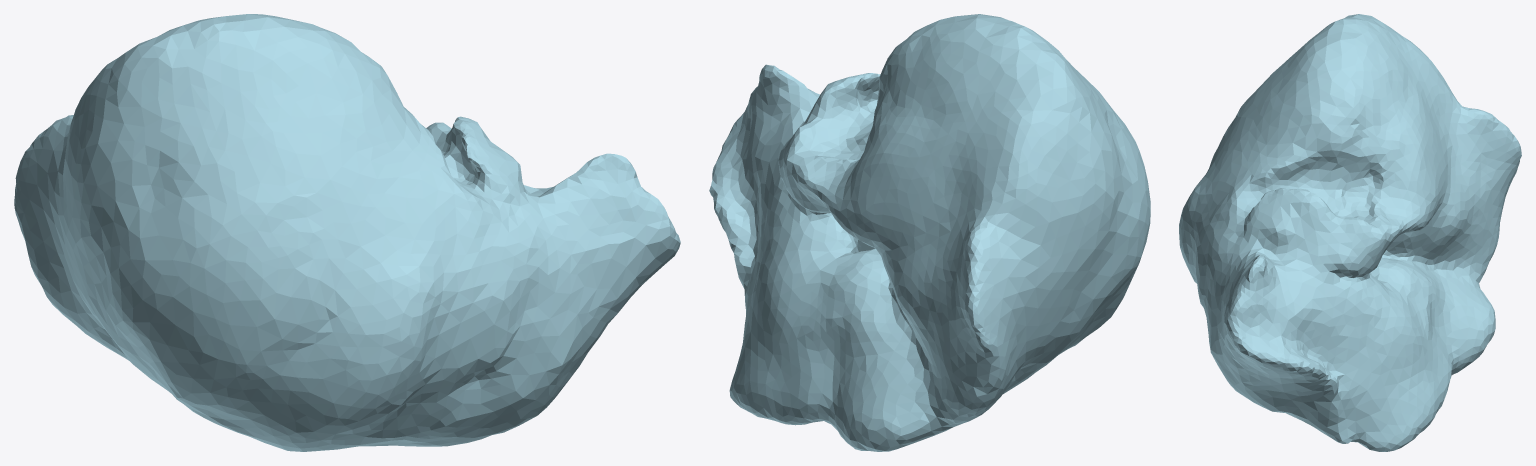
File: liver.obj
3 views of the same model, side by side, from view 1: azimuth 30°, elevation 25°; view 2: azimuth 150°, elevation 25°; view 3: azimuth 270°, elevation 25° (orthographic). The views are drawn at different scales.
Parts seen in each view (by area): view 1: grp1; view 2: grp1; view 3: grp1.
Boxes of the visible parts, left/top/right/bottom form: grp1: left=14, top=14, right=680, bottom=451; grp1: left=709, top=14, right=1150, bottom=451; grp1: left=1179, top=14, right=1521, bottom=451.
Size of the model in its own units: 194 by 168 by 157.
